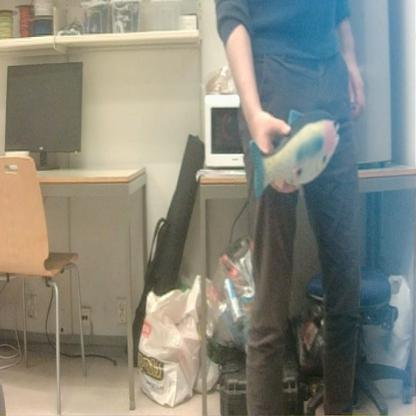rubberfish: (238, 103, 344, 204)
